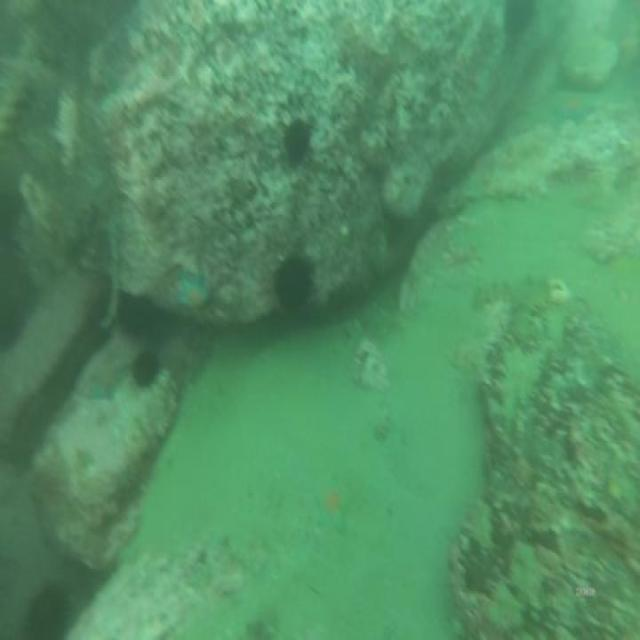echinus: (272, 242, 316, 326), (21, 573, 76, 640), (279, 114, 315, 174), (130, 348, 162, 390)
holothurian: (512, 269, 553, 343), (472, 278, 515, 300)
starfish: (312, 476, 352, 536), (553, 89, 600, 131), (175, 270, 213, 319), (88, 362, 124, 404)
